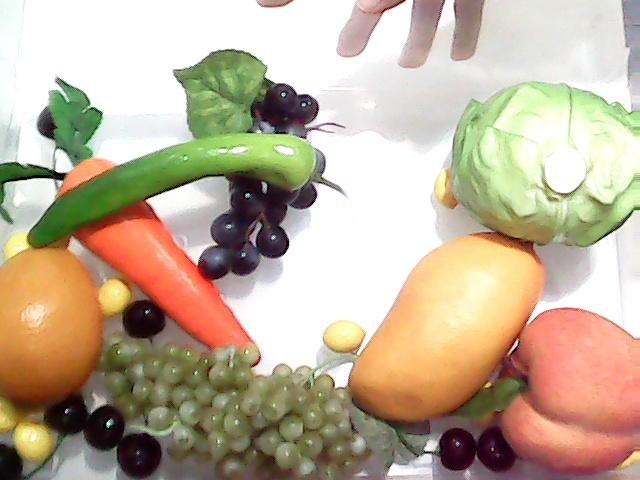cabbage: (448, 79, 640, 249)
carrot: (0, 74, 260, 368)
grape: (102, 336, 374, 476), (170, 45, 320, 274), (220, 194, 280, 256)
lemon: (0, 234, 120, 410)
mango: (349, 234, 547, 416)
peach: (488, 306, 640, 476)
pepper: (25, 126, 355, 262)
